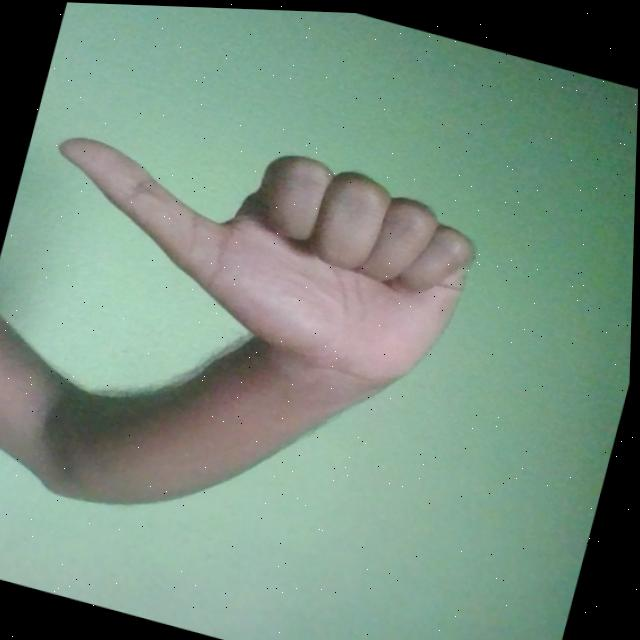Dislike: (17, 92, 488, 401)
